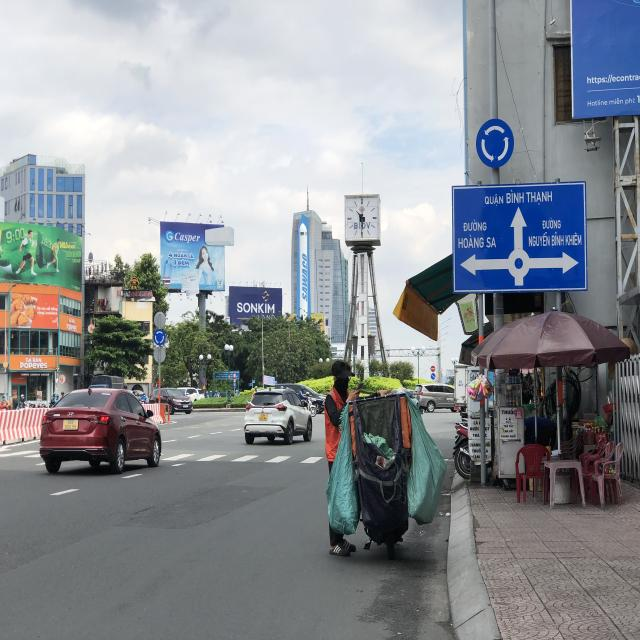Bien bao noi giao nhau chay theo vong xuyen: (472, 113, 517, 172), (152, 327, 167, 348)
